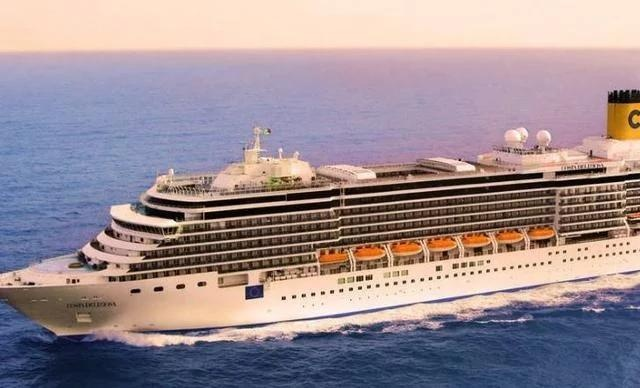youlun: (3, 86, 640, 338)
